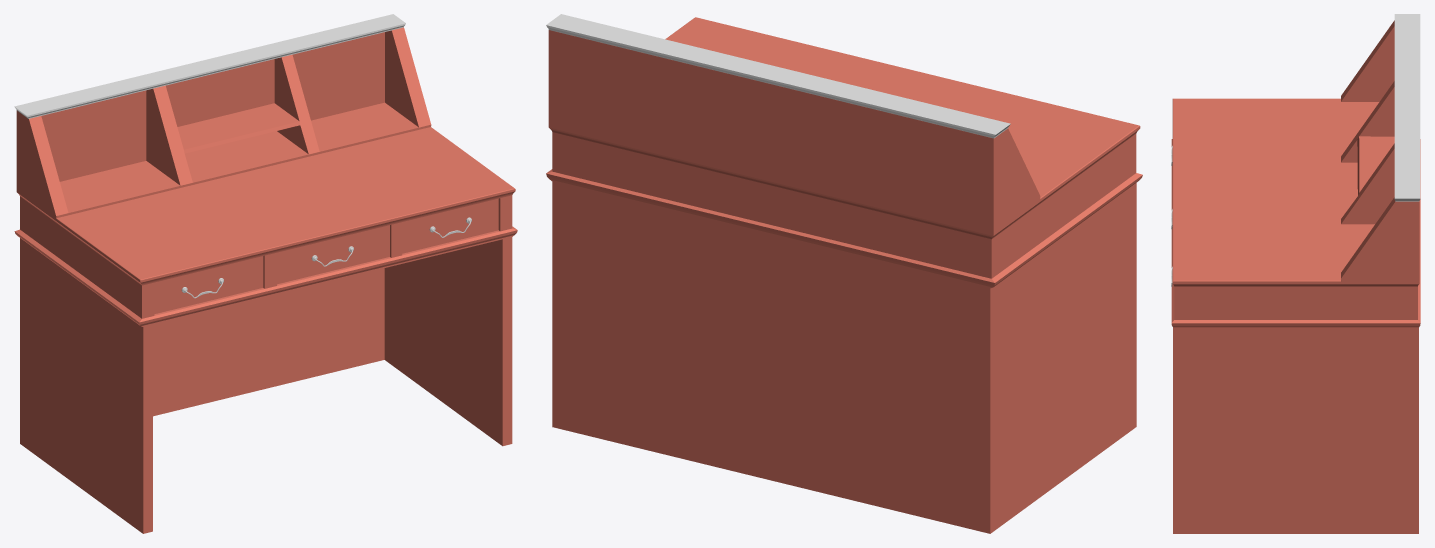
File: Desk_LowPoly.fbx
3 views of the same model, side by side, from view 1: azimuth 30°, elevation 25°; view 2: azimuth 150°, elevation 25°; view 3: azimuth 270°, elevation 25° (orthographic). The views are drawn at different scales.
Visible parts, largest first — view 1: dESK_tEST, Cube.004; view 2: dESK_tEST, Cube.004; view 3: dESK_tEST, Cube.004.
Boxes of the visible parts, x1=… form: dESK_tEST: x1=14, y1=27, x2=517, y2=533; Cube.004: x1=14, y1=14, x2=405, y2=118; dESK_tEST: x1=546, y1=17, x2=1142, y2=533; Cube.004: x1=546, y1=14, x2=1010, y2=138; dESK_tEST: x1=1171, y1=20, x2=1420, y2=533; Cube.004: x1=1394, y1=14, x2=1420, y2=201.
Bounding box in the file's own units: 120 × 102 × 68.21.
